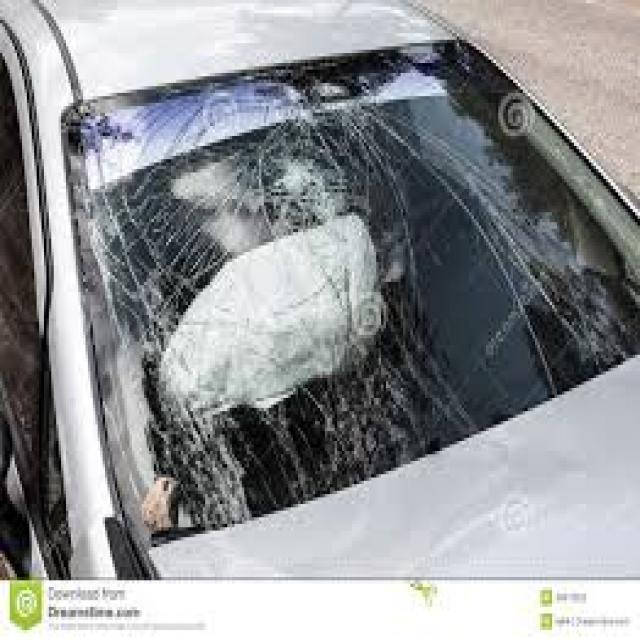damaged-rear-window: (63, 31, 640, 540)
